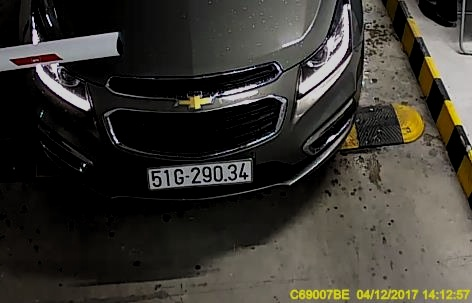plate: (149, 160, 254, 191)
